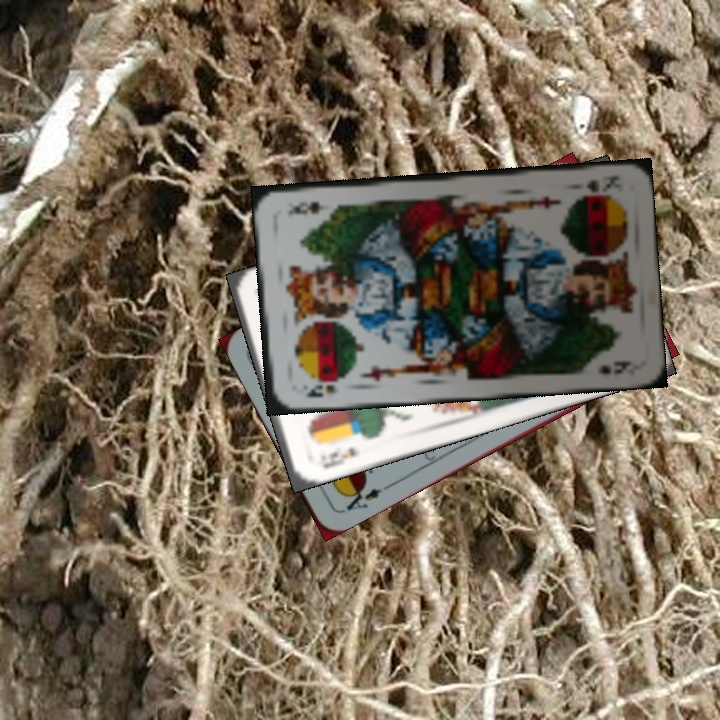EA: (337, 479, 392, 516)
EK: (319, 443, 361, 471)
SK: (583, 171, 625, 195), (303, 380, 338, 400)
